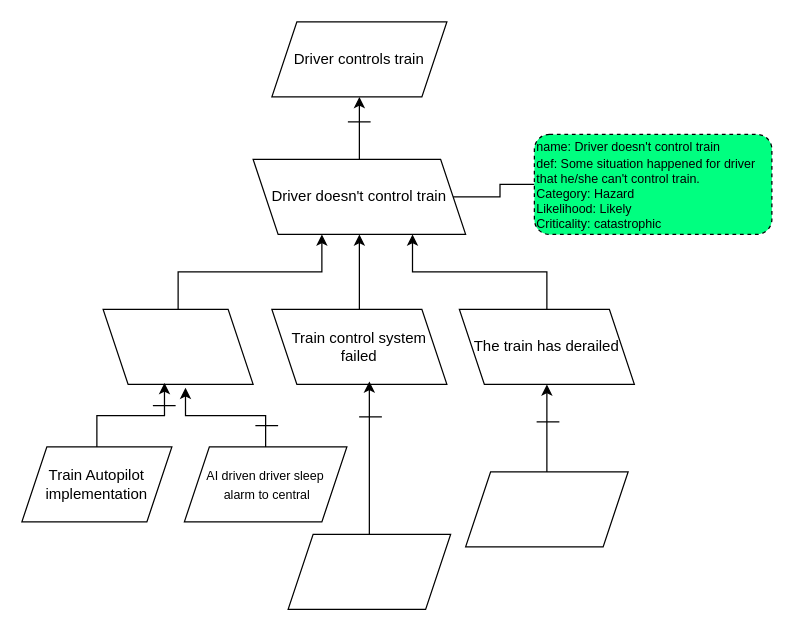
The diagram is 794 pixels wide and 631 high, and some of its shapes have lost their labels. Here are the shapes that lost their labels. From the top down, the centre of each, then its label:
At pixel 177 346: "Driver is sleeping".
At pixel 546 509: "Call to urgent system to decrease degree of consequences".
At pixel 369 571: "Call to central control".
